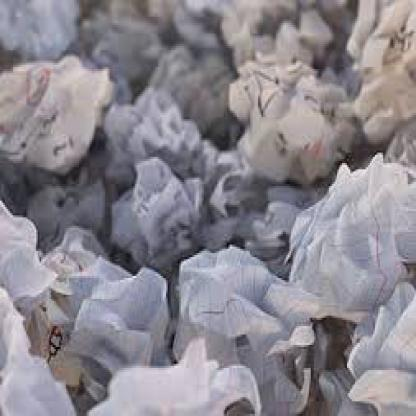paper: (171, 242, 321, 414), (37, 224, 170, 404), (283, 153, 414, 322), (225, 46, 355, 180), (77, 332, 255, 414), (104, 84, 224, 202), (0, 50, 114, 170), (209, 146, 311, 278), (5, 148, 133, 253), (321, 276, 414, 414), (346, 0, 414, 161), (217, 0, 354, 78), (0, 282, 74, 414), (108, 151, 200, 257), (145, 46, 242, 142), (0, 195, 56, 326), (72, 4, 161, 84), (0, 0, 80, 55), (50, 251, 86, 320)
